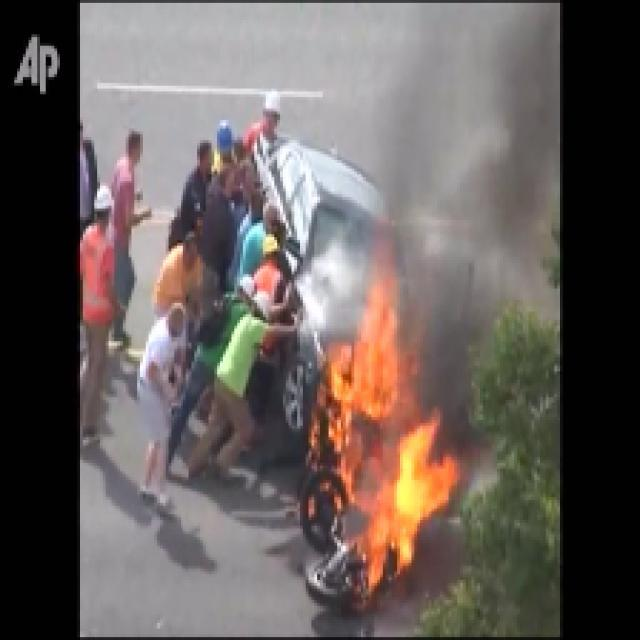Fire: (340, 372, 440, 554)
Smoke: (411, 42, 558, 344)
